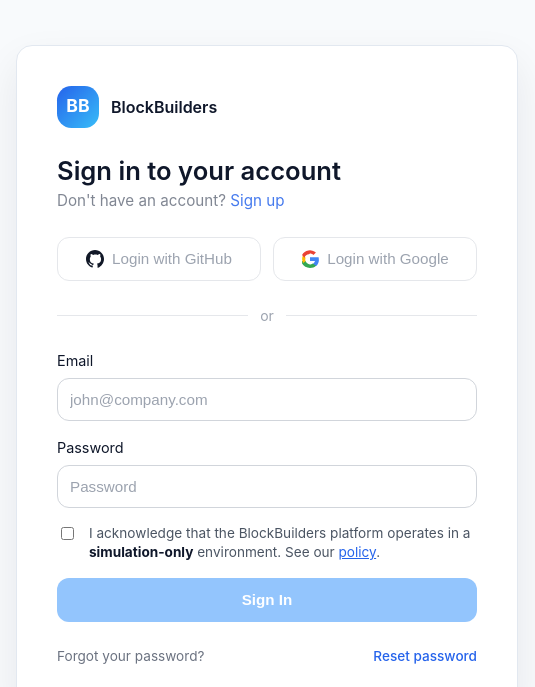
Test: LoginPage consent gating › prompts the user to verify their email when Supabase does not create a session on sign-up
Click the button "Sign up". click: (257, 201)
box: 230,190 -> 284,213
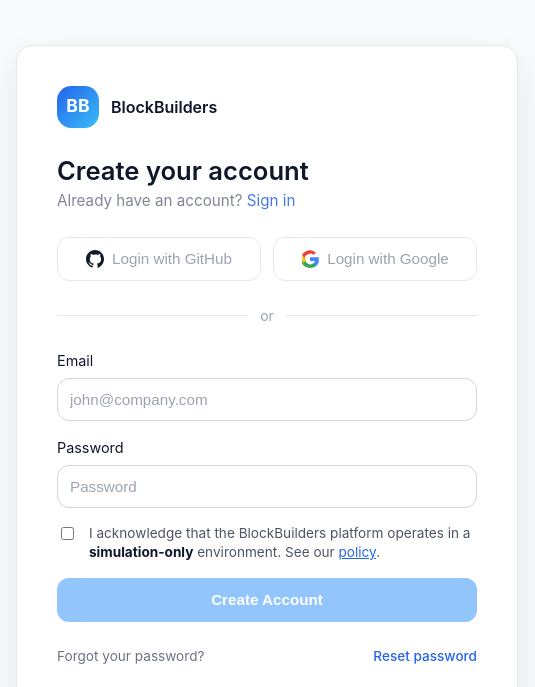
Type "demo@blockbuilders.tech" into the field labelled "Email". click: (267, 399)
box: 57,378 -> 477,421
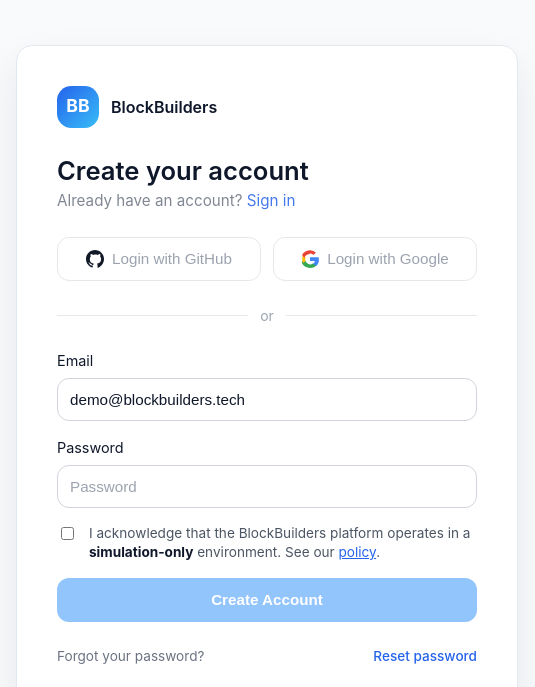
Type "sufficientlySecure1!" into the password field labelled "Password". click: (267, 486)
box: 57,465 -> 477,508
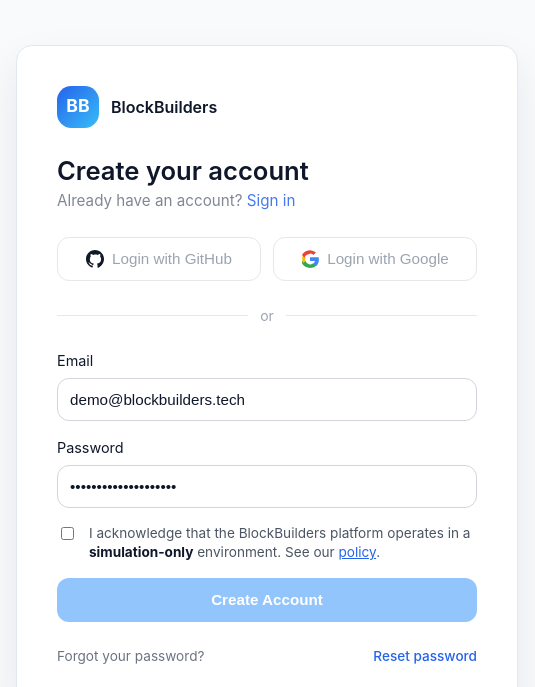
Click the checkbox labelled "simulation-only". click: (68, 533)
box: 61,527 -> 74,540
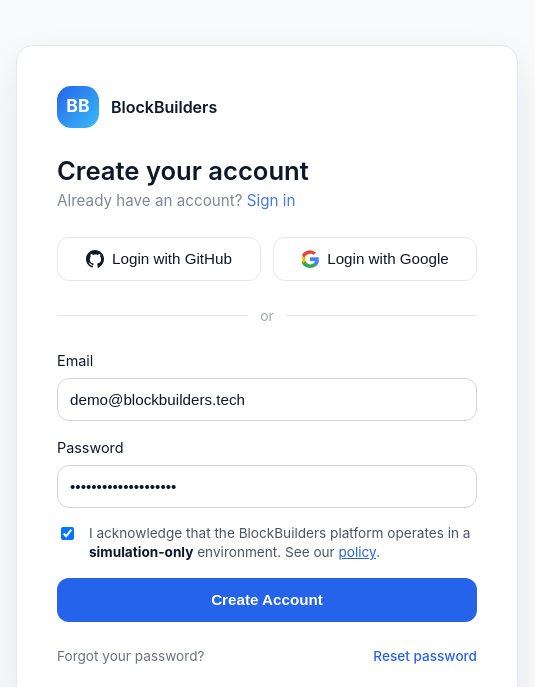
Submit the form named "Create Account", box 57,350 -> 477,622
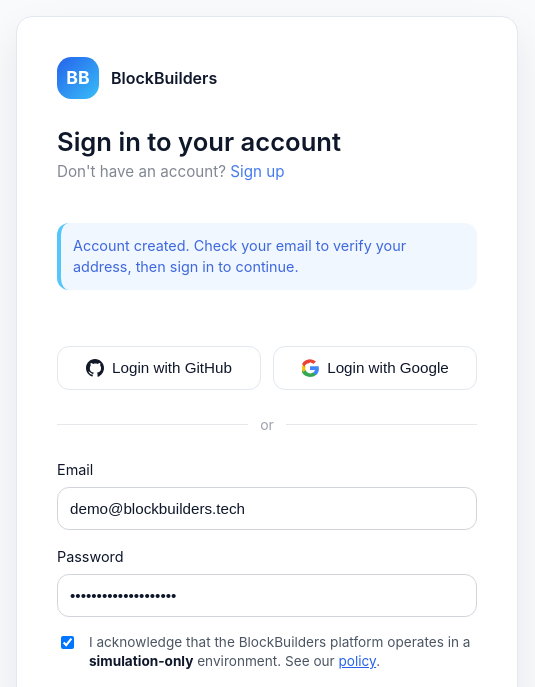
Expected: the message shows "Account created. Check your email to verify your address, then sign in to continue.", 73,237 -> 406,275
